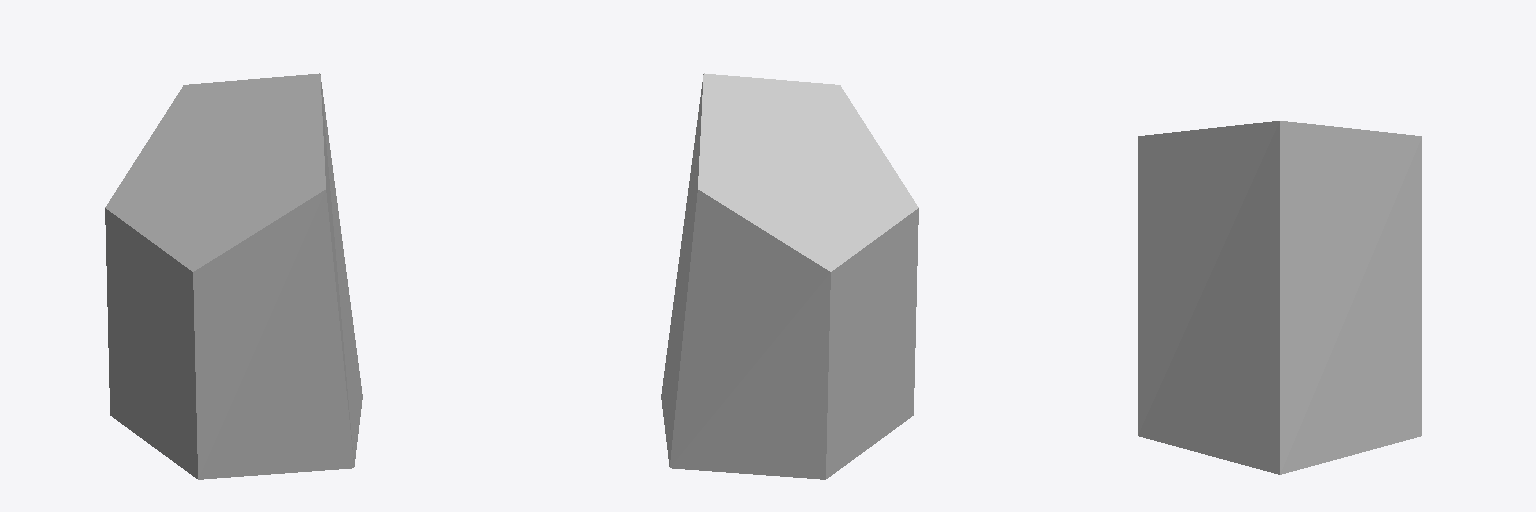
The model's file is 05_00_LThighs.obj.
The picture shows the model from 3 angles: view 1: azimuth 30°, elevation 25°; view 2: azimuth 150°, elevation 25°; view 3: azimuth 270°, elevation 25°; orthographic projection.
Parts seen in each view (by area): view 1: pCylinder1; view 2: pCylinder1; view 3: pCylinder1.
Part boxes in pixels (left/top/right/bottom): pCylinder1: left=105, top=73, right=362, bottom=479; pCylinder1: left=661, top=73, right=918, bottom=479; pCylinder1: left=1138, top=121, right=1421, bottom=474.
Size of the model in its own units: 31 by 46.22 by 35.74.